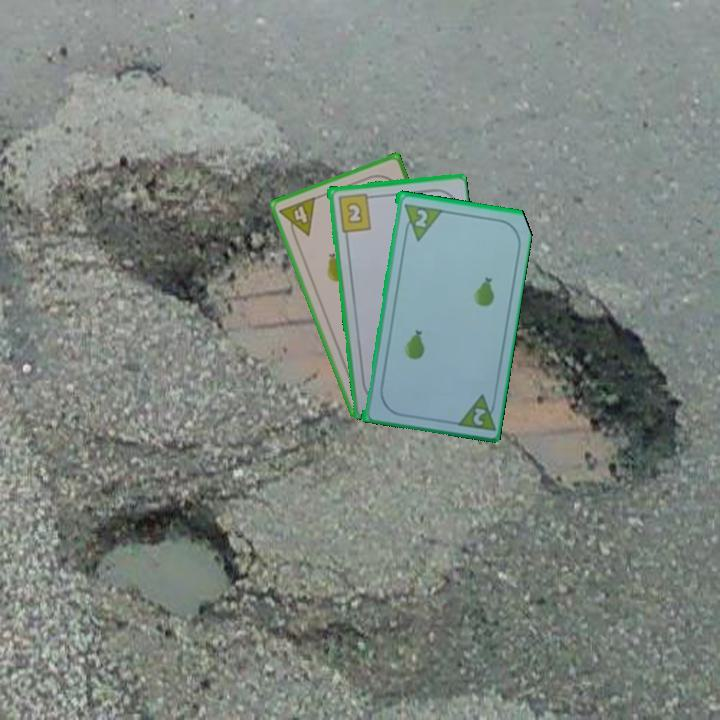2b: (334, 189, 376, 234)
2p: (451, 390, 499, 433), (410, 205, 430, 230)
4p: (276, 193, 319, 243)
